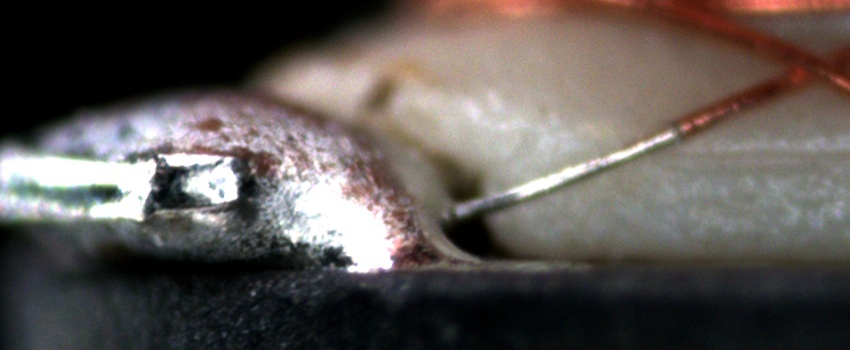CL: (769, 38, 843, 91)
DL: (662, 127, 850, 182)
TS: (452, 124, 681, 217)
